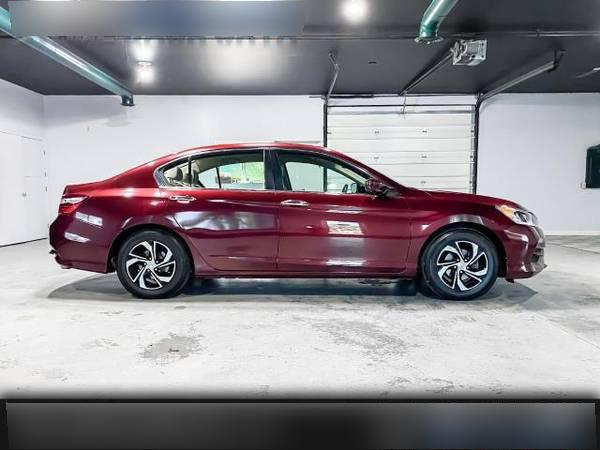Front_Bumper: (502, 226, 549, 278)
Front_Fender: (405, 190, 515, 273)
Front_Right_Door: (278, 194, 416, 278)
Front_Right_Window: (275, 151, 406, 201)
Rear_Bumper: (47, 212, 115, 272)
Rear_Fender: (63, 179, 174, 233)
Rear_Right_Door: (163, 192, 281, 277)
Rear_Right_Window: (156, 150, 277, 194)
Right_Headlight: (498, 203, 543, 227)
Right_Taillight: (55, 195, 85, 220)
Roof: (115, 140, 409, 195)
Wheel: (424, 229, 502, 300), (115, 229, 191, 298)
